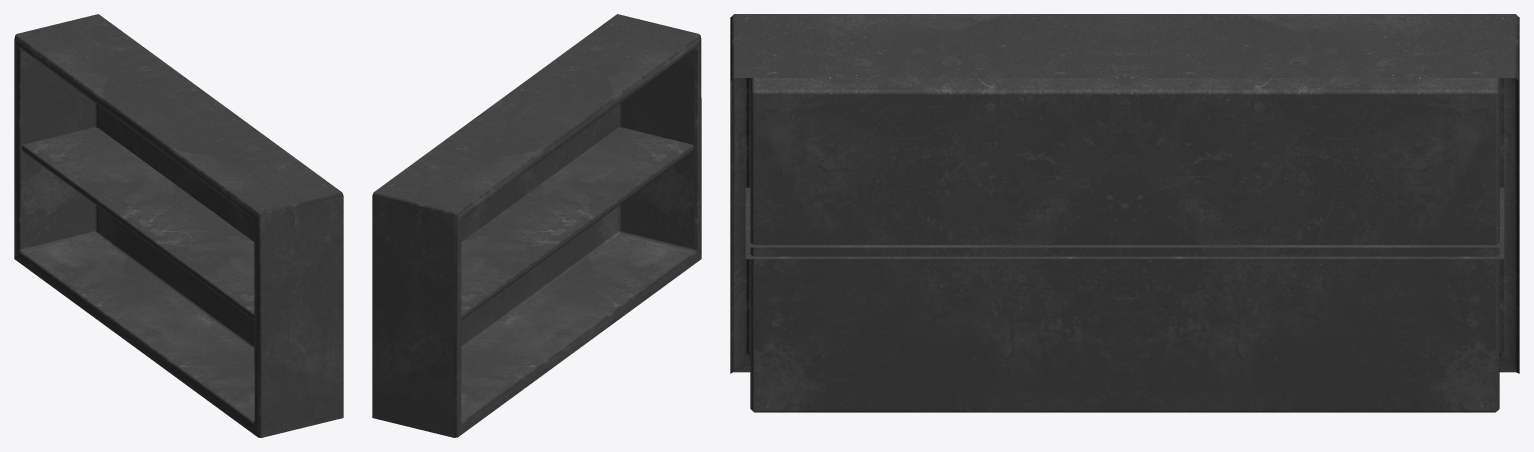
File: SM_Teacher_Shelf.fbx
3 renders of one model, left to right at view 1: azimuth 30°, elevation 25°; view 2: azimuth 150°, elevation 25°; view 3: azimuth 270°, elevation 25°, orthographic. The views are drawn at different scales.
Visible parts, largest first — view 1: SM_Teacher_Shelf_LOD0; view 2: SM_Teacher_Shelf_LOD0; view 3: SM_Teacher_Shelf_LOD0.
Boxes of the visible parts, x1=… form: SM_Teacher_Shelf_LOD0: x1=14, y1=14, x2=343, y2=437; SM_Teacher_Shelf_LOD0: x1=372, y1=14, x2=701, y2=437; SM_Teacher_Shelf_LOD0: x1=730, y1=14, x2=1519, y2=412.
Size of the model in its own units: 38.59 by 196 by 98.4.
Materials: 1 (1 with a texture image).
